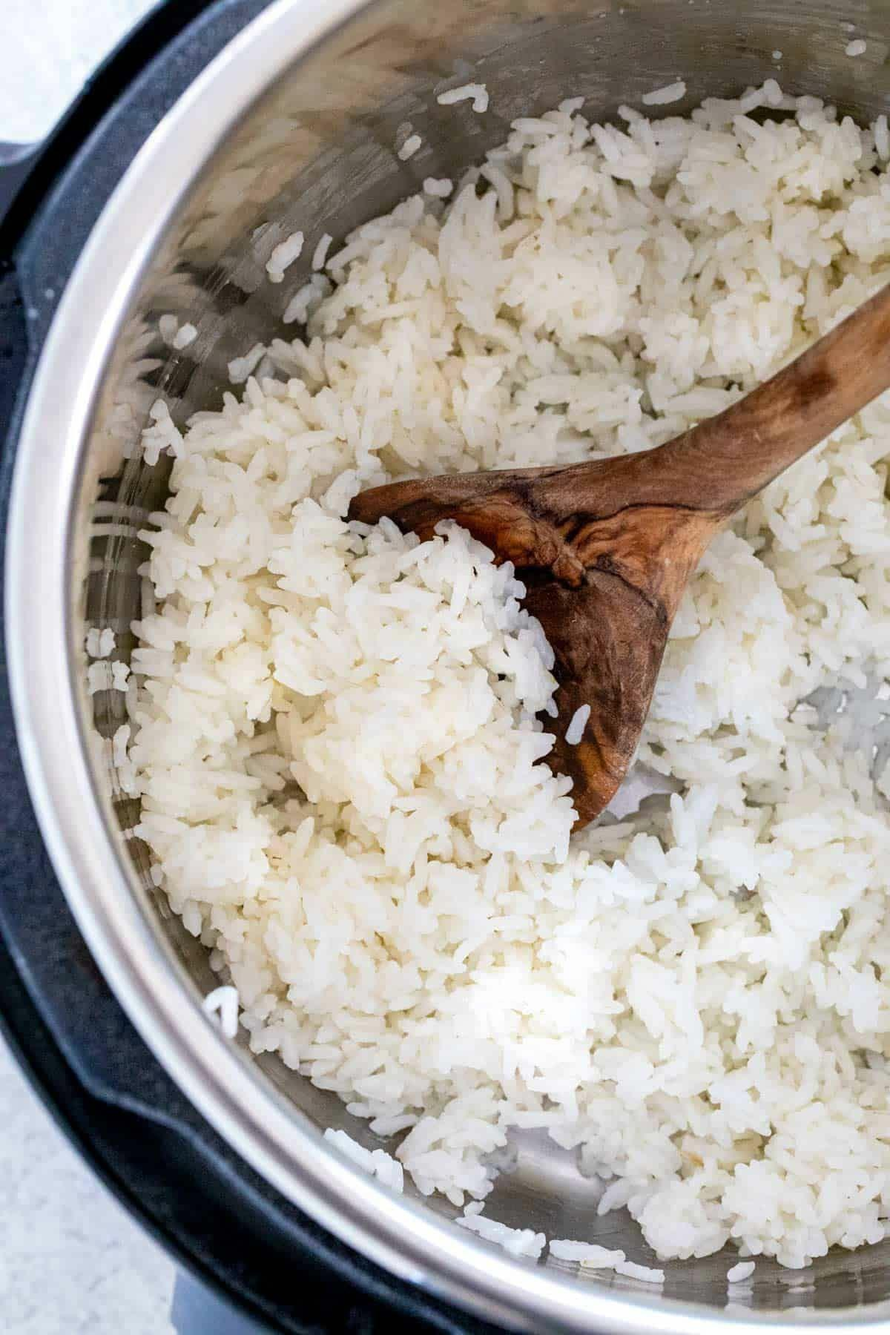WhiteRice: (128, 56, 868, 1265)
